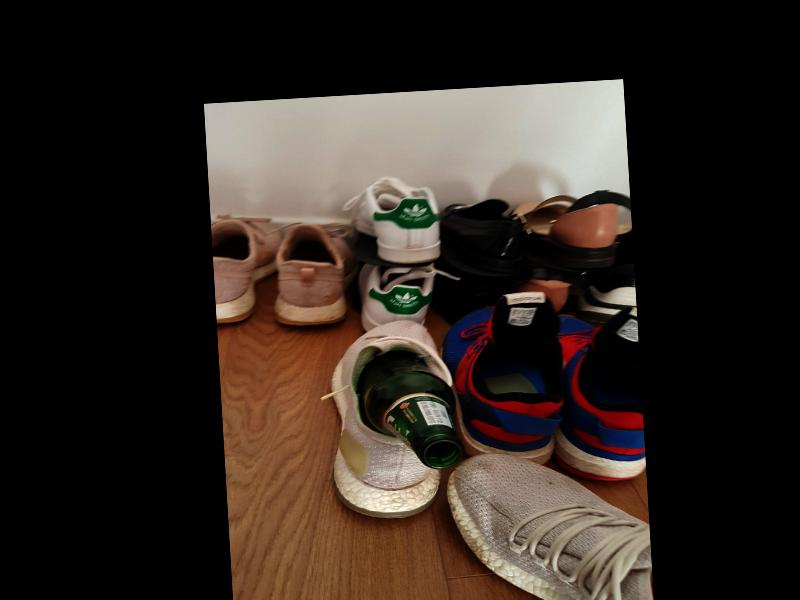Beer: (358, 349, 462, 472)
